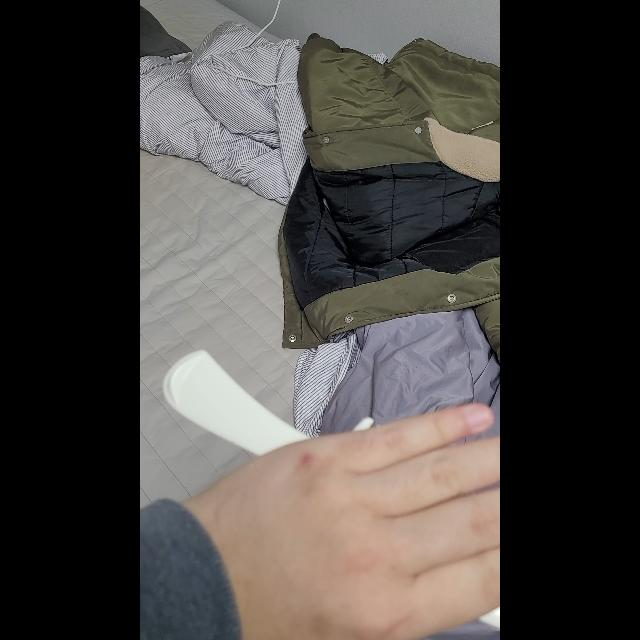COMB: (162, 348, 500, 632)
